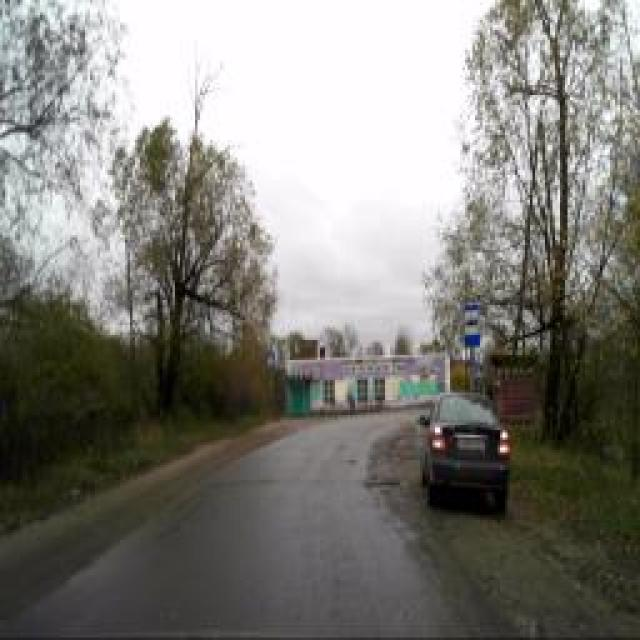sign: (474, 361, 484, 381), (265, 351, 275, 369)
